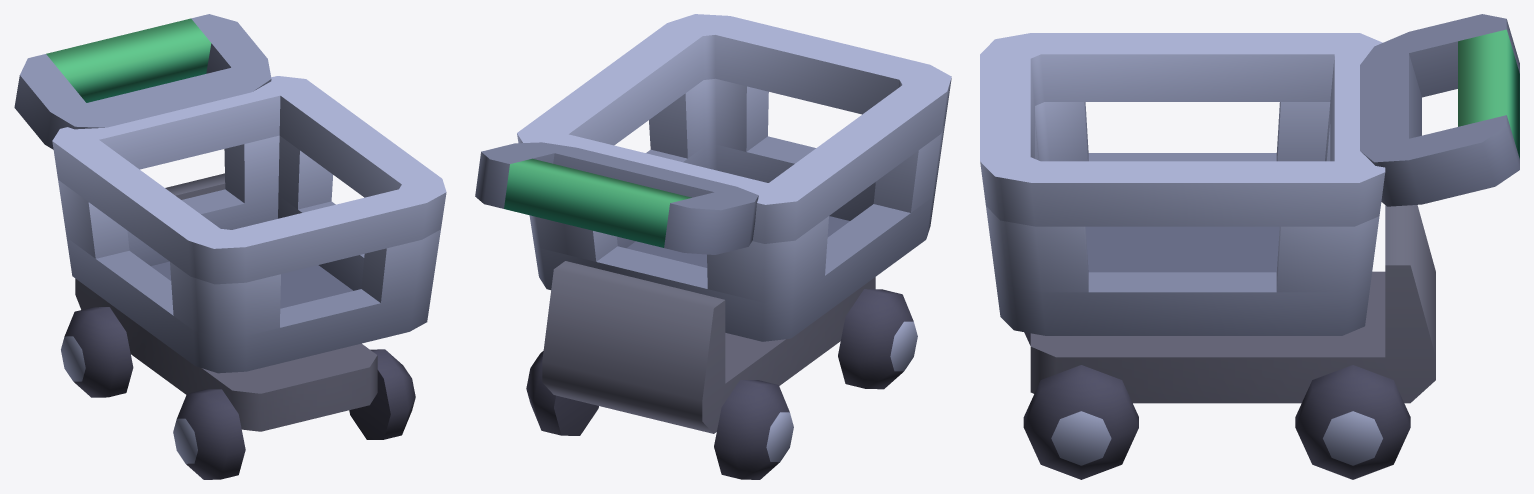
Rendered from shopping-cart.obj.
3 renders of one model, left to right at view 1: azimuth 30°, elevation 25°; view 2: azimuth 150°, elevation 25°; view 3: azimuth 270°, elevation 25°, orthographic. The views are drawn at different scales.
Parts seen in each view (by area): view 1: shopping-cart; view 2: shopping-cart; view 3: shopping-cart.
Part boxes in pixels (x1,y1,x2,y2): shopping-cart: (14, 14, 446, 479); shopping-cart: (475, 14, 951, 479); shopping-cart: (980, 14, 1519, 479).
Size of the model in its own units: 0.35 by 0.3858 by 0.5328.
Materials: 1 (1 with a texture image).
